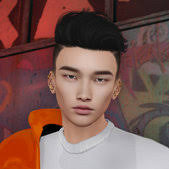asian_male: (45, 41, 119, 130)
